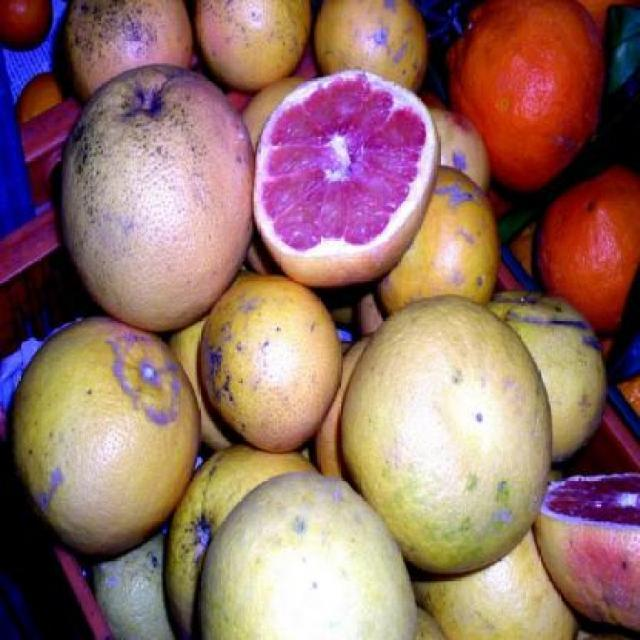Orange: (452, 3, 614, 191)
